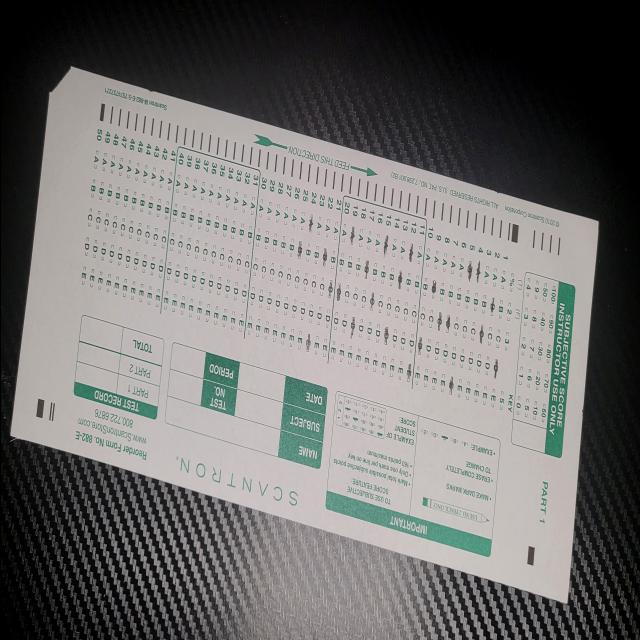scantron: (18, 66, 599, 604)
